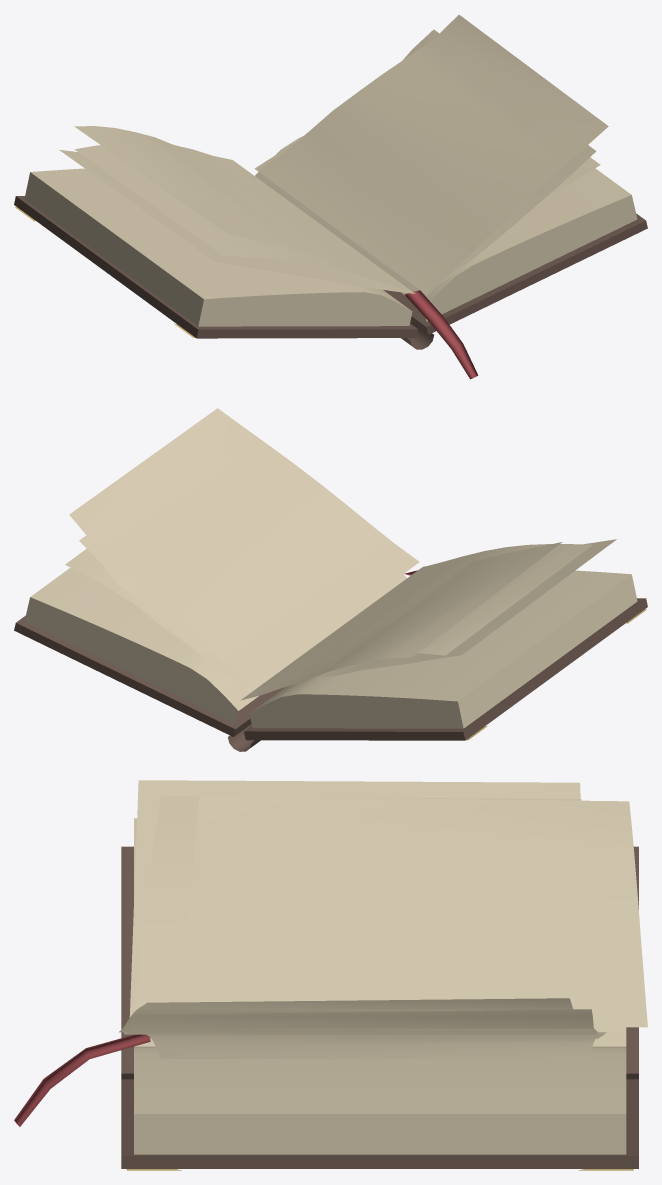
File: FloatingBookSmall.fbx
The picture shows the model from 3 angles, top to bottom: view 1: azimuth 30°, elevation 25°; view 2: azimuth 150°, elevation 25°; view 3: azimuth 270°, elevation 25°; orthographic projection. The views are drawn at different scales.
Parts seen in each view (by area): view 1: FloatingBookSmall; view 2: FloatingBookSmall; view 3: FloatingBookSmall.
Boxes of the visible parts, box(x1,y1,x2,y2) form: FloatingBookSmall: box(14, 15, 647, 379); FloatingBookSmall: box(14, 408, 647, 751); FloatingBookSmall: box(14, 780, 647, 1170).
Size of the model in its own units: 0.3015 by 0.1122 by 0.2576.
